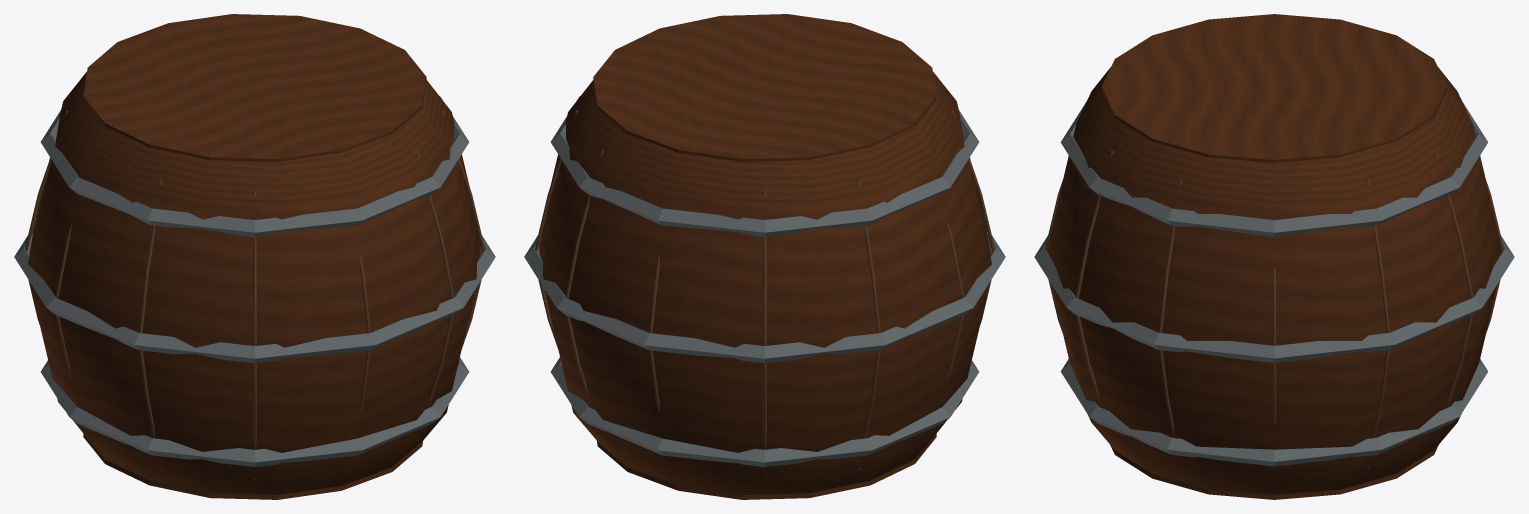
File: barrel_oak.fbx
3 renders of one model, left to right at view 1: azimuth 30°, elevation 25°; view 2: azimuth 150°, elevation 25°; view 3: azimuth 270°, elevation 25°, orthographic.
Visible parts, largest first — view 1: Barrel • bulged stave shell, Barrel • top head, Barrel • forged hoop 01, Barrel • forged hoop 02, Barrel • forged hoop 00, Barrel • lower head, Barrel • stave seam 10, Barrel • stave seam 07, Barrel • stave seam 08, Barrel • stave seam 11, Barrel • stave seam 09; view 2: Barrel • bulged stave shell, Barrel • top head, Barrel • forged hoop 01, Barrel • forged hoop 02, Barrel • forged hoop 00, Barrel • lower head, Barrel • stave seam 02, Barrel • stave seam 05, Barrel • stave seam 04, Barrel • stave seam 01, Barrel • stave seam 03; view 3: Barrel • bulged stave shell, Barrel • top head, Barrel • forged hoop 01, Barrel • forged hoop 02, Barrel • forged hoop 00, Barrel • lower head, Barrel • stave seam 02, Barrel • stave seam 10, Barrel • stave seam 01, Barrel • stave seam 11, Barrel • stave seam 00.
Part boxes in pixels (x1,y1,x2,y2): Barrel • bulged stave shell: [28, 72, 480, 495]; Barrel • top head: [83, 14, 426, 161]; Barrel • forged hoop 01: [14, 229, 495, 363]; Barrel • forged hoop 02: [40, 96, 469, 237]; Barrel • forged hoop 00: [40, 357, 469, 466]; Barrel • lower head: [83, 434, 422, 499]; Barrel • stave seam 10: [416, 150, 454, 441]; Barrel • stave seam 07: [139, 179, 162, 470]; Barrel • stave seam 08: [253, 190, 256, 480]; Barrel • stave seam 11: [441, 110, 484, 347]; Barrel • stave seam 09: [360, 255, 370, 412]; Barrel • bulged stave shell: [539, 72, 991, 495]; Barrel • top head: [593, 14, 936, 161]; Barrel • forged hoop 01: [524, 229, 1005, 363]; Barrel • forged hoop 02: [550, 96, 979, 237]; Barrel • forged hoop 00: [550, 357, 979, 466]; Barrel • lower head: [597, 434, 936, 499]; Barrel • stave seam 02: [565, 150, 603, 441]; Barrel • stave seam 05: [857, 179, 880, 470]; Barrel • stave seam 04: [763, 190, 766, 480]; Barrel • stave seam 01: [535, 110, 578, 347]; Barrel • stave seam 03: [649, 255, 659, 412]; Barrel • bulged stave shell: [1046, 66, 1502, 495]; Barrel • top head: [1101, 14, 1447, 162]; Barrel • forged hoop 01: [1034, 235, 1514, 362]; Barrel • forged hoop 02: [1060, 101, 1488, 237]; Barrel • forged hoop 00: [1060, 359, 1488, 466]; Barrel • lower head: [1110, 445, 1438, 499]; Barrel • stave seam 02: [1435, 150, 1473, 440]; Barrel • stave seam 10: [1075, 150, 1113, 440]; Barrel • stave seam 01: [1366, 180, 1389, 469]; Barrel • stave seam 11: [1159, 180, 1182, 469]; Barrel • stave seam 00: [1272, 267, 1276, 423].
Size of the model in its own units: 0.456 by 0.356 by 0.456.
Materials: 3 (1 with a texture image).
